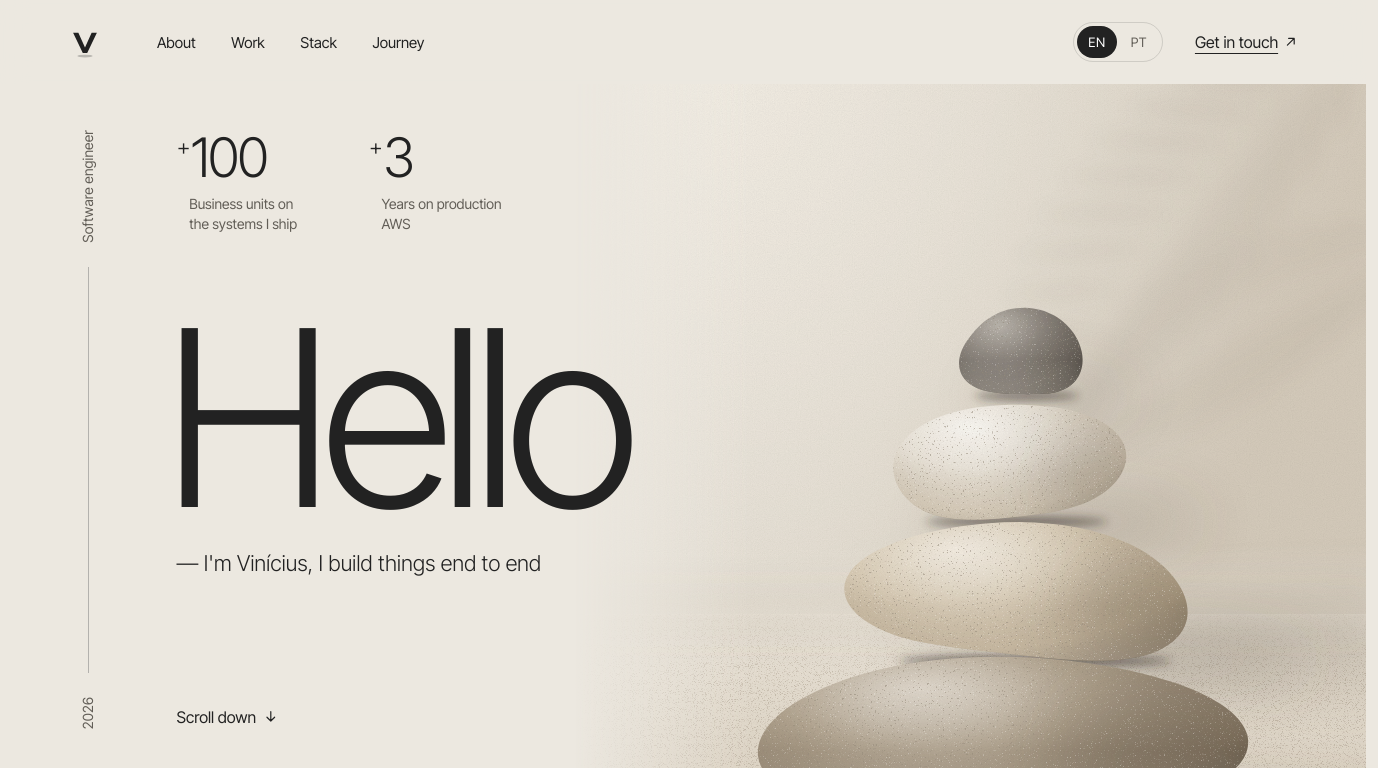
it: portfolio › switches to Portuguese, updates the lang attribute and remembers the choice
The image size is (1378, 768).
Step 1. Click the button "PT" → (1139, 42), box [1119,26,1159,58]
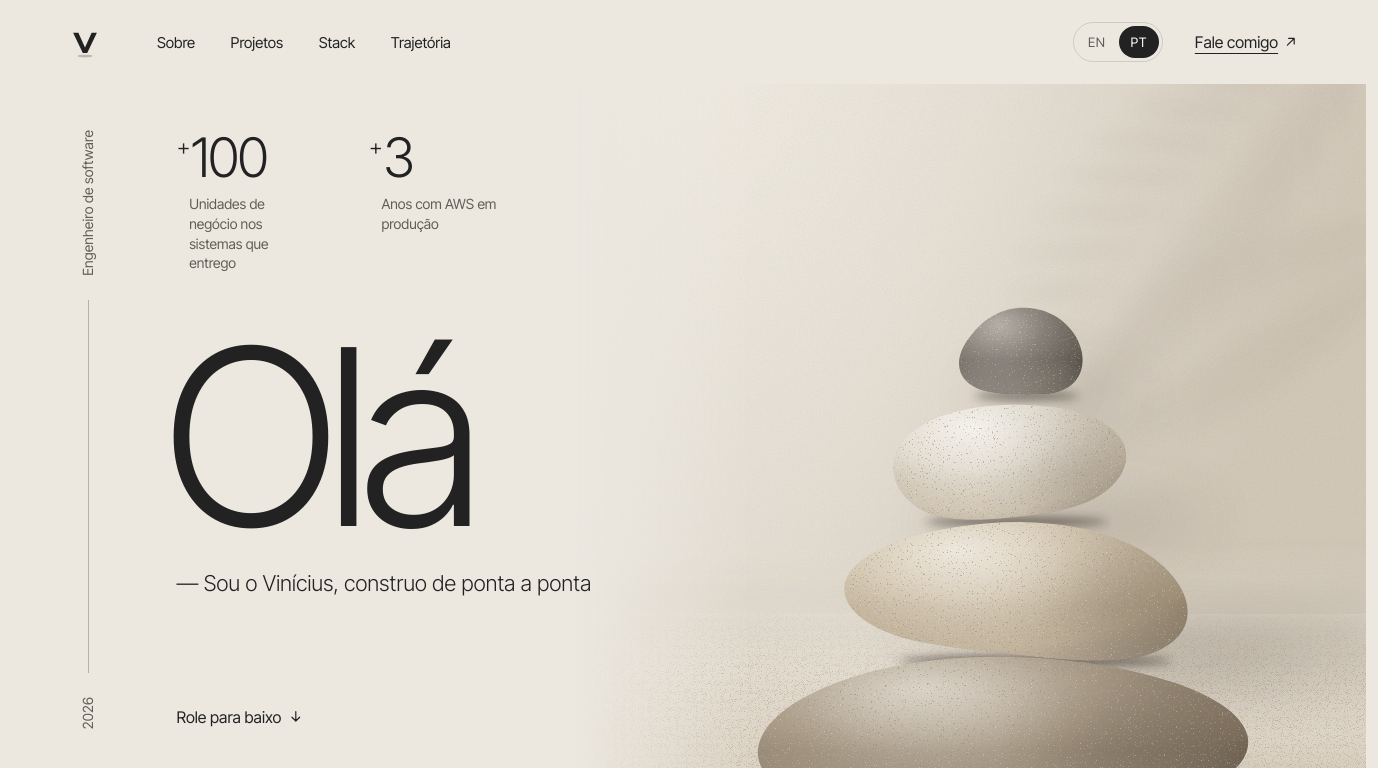
Now the heading "Olá — Sou o Vinícius, construo de ponta a ponta" is shown, box [162,288,591,596]
